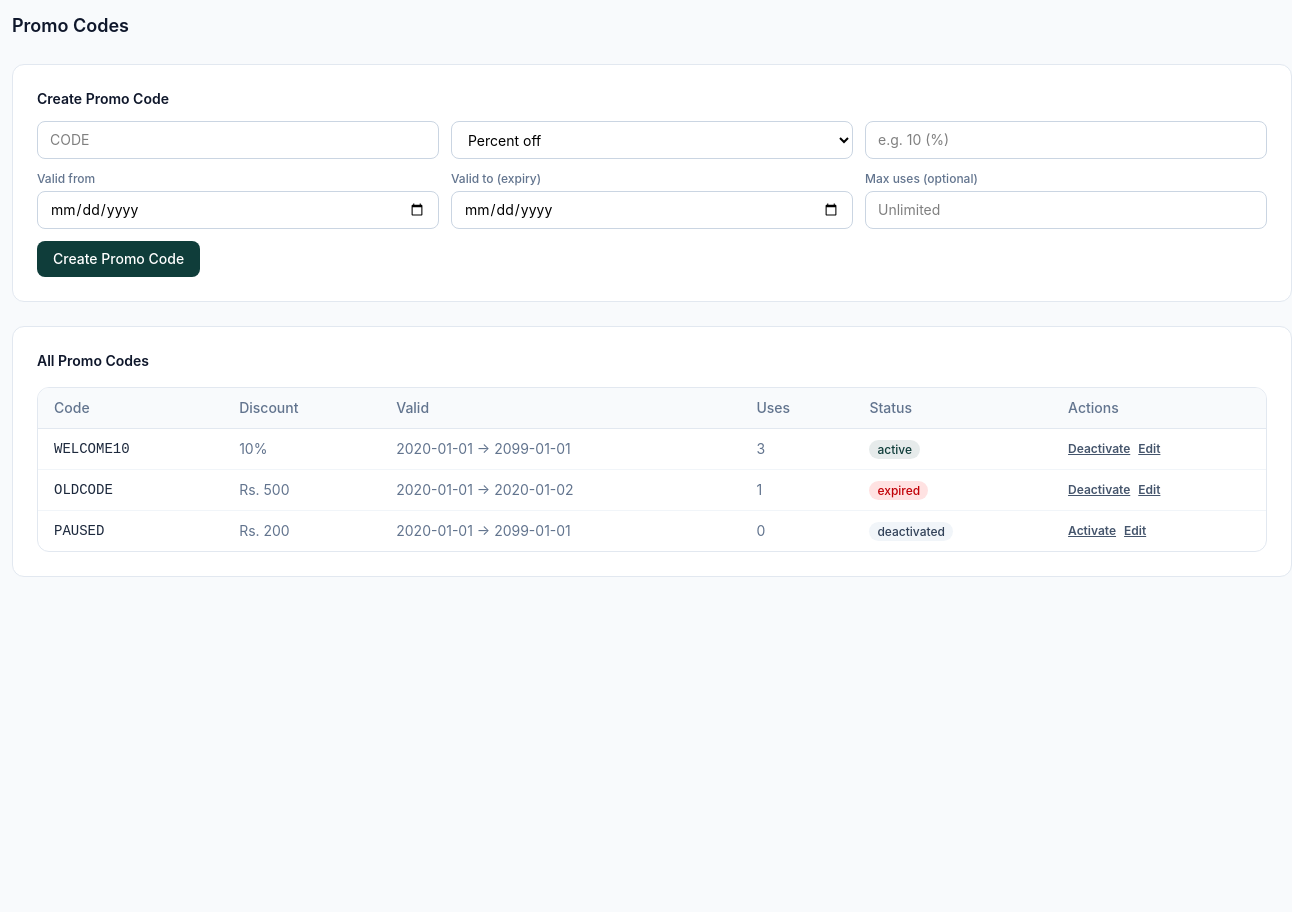
PromoCodesPage › rejects an out-of-range percent value client-side via max, and surfaces a backend rejection when submitted anyway
This screenshot has width=1292, height=912.
Expected: the text "WELCOME10" is shown, [38,428,223,470]
Type "BADCODE" into the field with placeholder "CODE" at (238, 140), box [37,121,439,159]
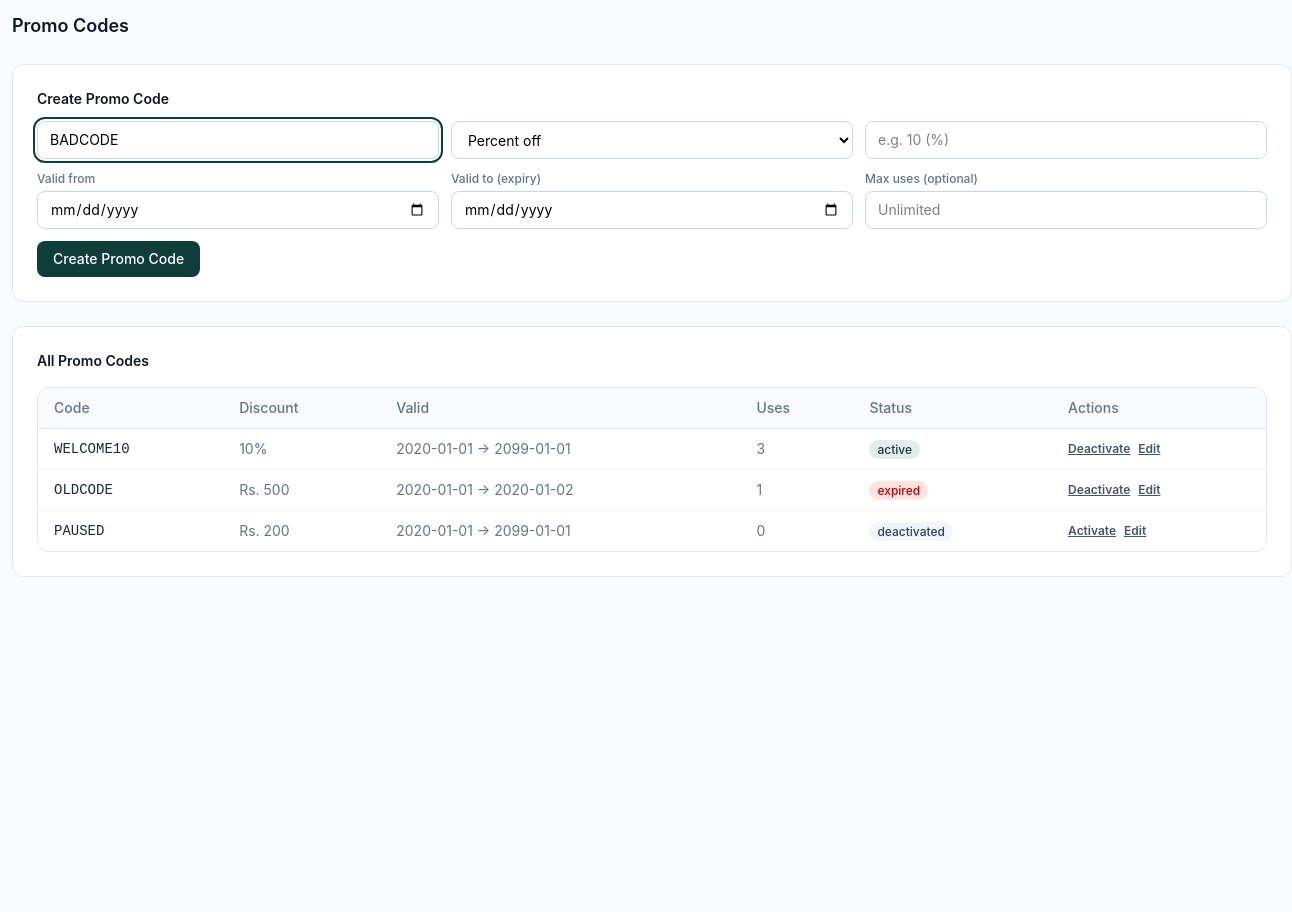
Type "150" into the number field with placeholder "e.g. 10 (%)" at (1066, 140), box [865,121,1267,159]
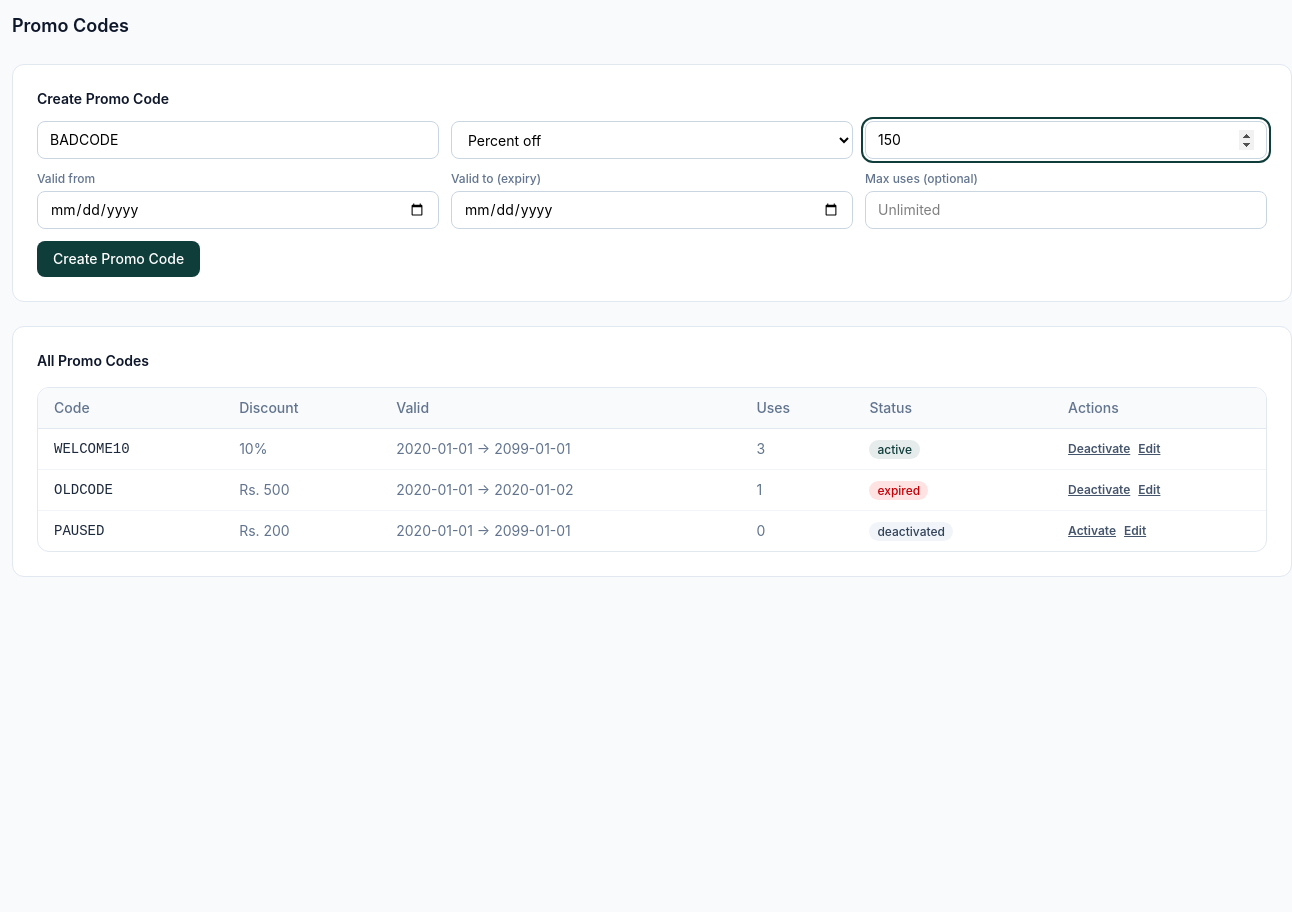
Type "2027-01-01" into the date field below "Valid from" at (238, 210), box [37,191,439,229]
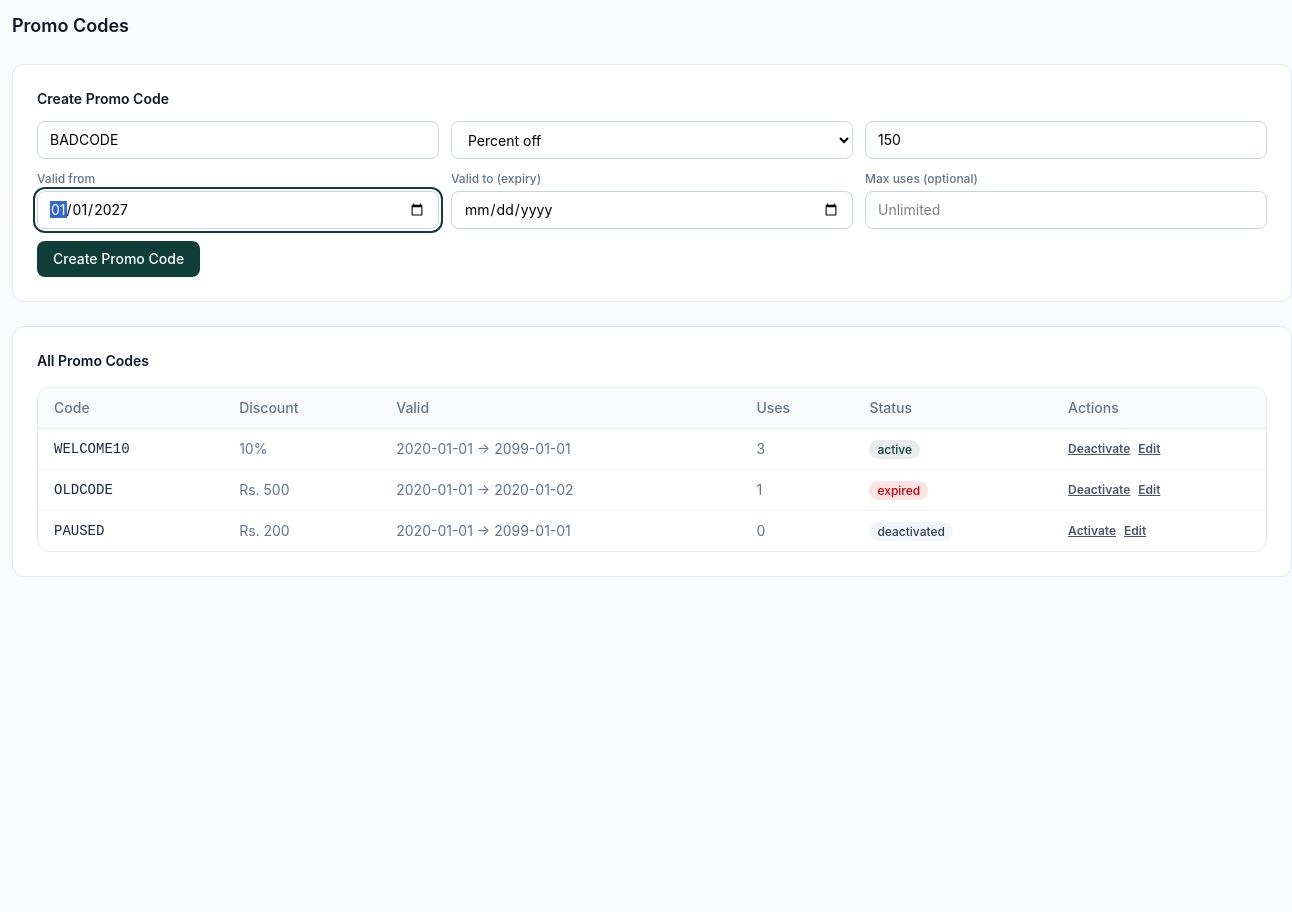
Type "2027-06-01" into the date field below "Valid to (expiry)" at (652, 210), box [451,191,853,229]
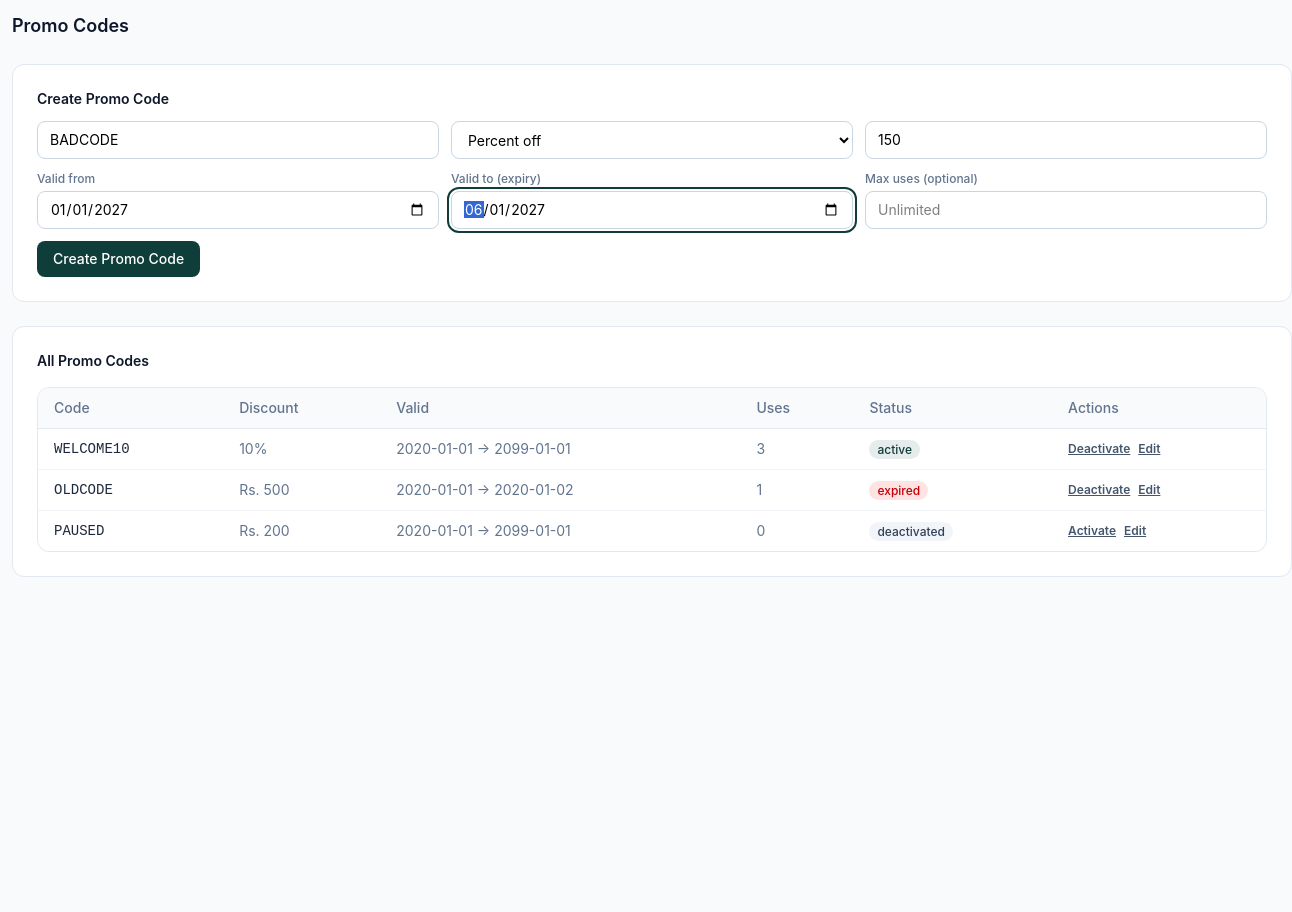
Click the button "Create Promo Code" at (119, 259), box [37,241,200,277]
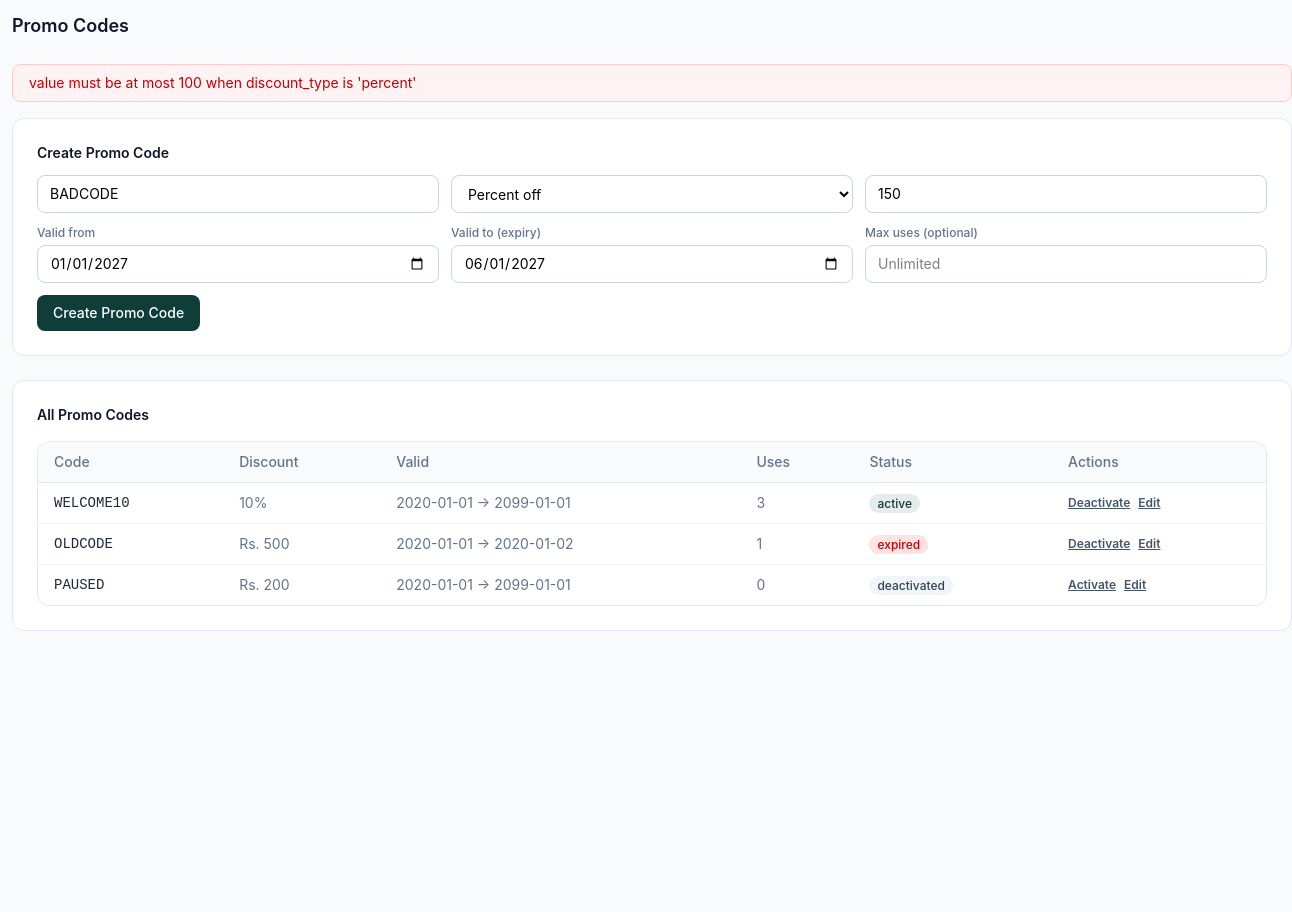
Expected: the text "value must be at most 100 when discount_type is 'percent'" is shown, [12,64,1291,102]
